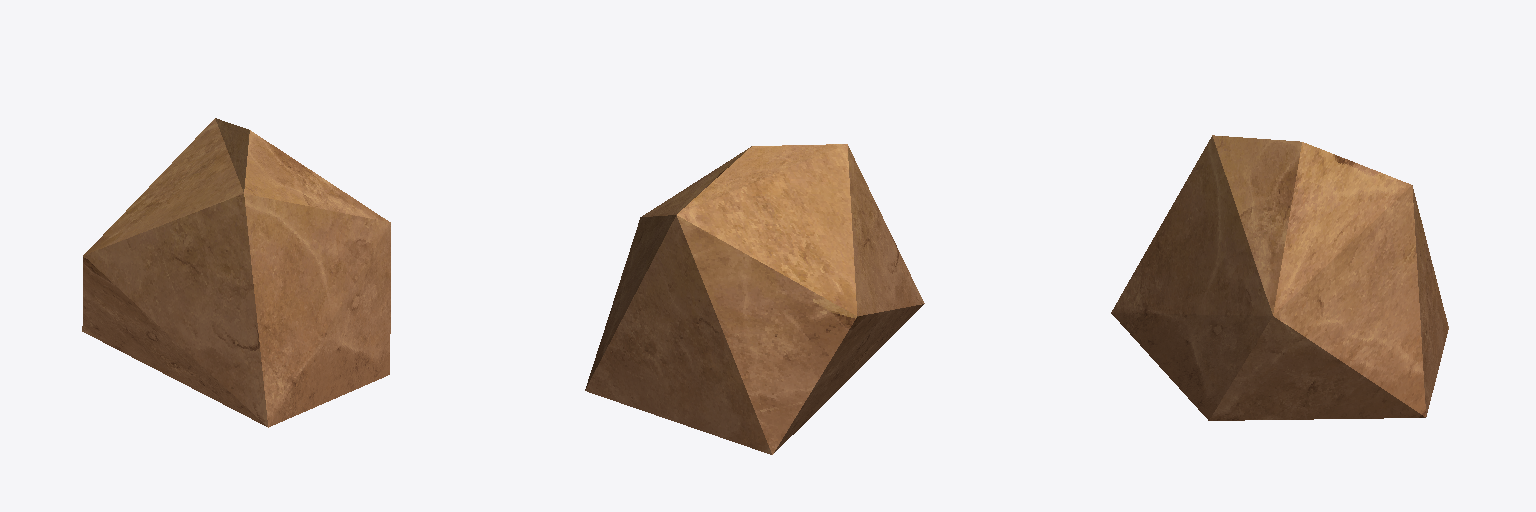
3 renders of one model, left to right at view 1: azimuth 30°, elevation 25°; view 2: azimuth 150°, elevation 25°; view 3: azimuth 270°, elevation 25°, orthographic.
Parts seen in each view (by area): view 1: stone_stone_stone; view 2: stone_stone_stone; view 3: stone_stone_stone.
Boxes of the visible parts, x1=… form: stone_stone_stone: x1=82, y1=118, x2=390, y2=427; stone_stone_stone: x1=585, y1=144, x2=924, y2=454; stone_stone_stone: x1=1111, y1=135, x2=1448, y2=420.
Size of the model in its own units: 1.7 by 1.45 by 1.9.
Materials: 1 (1 with a texture image).